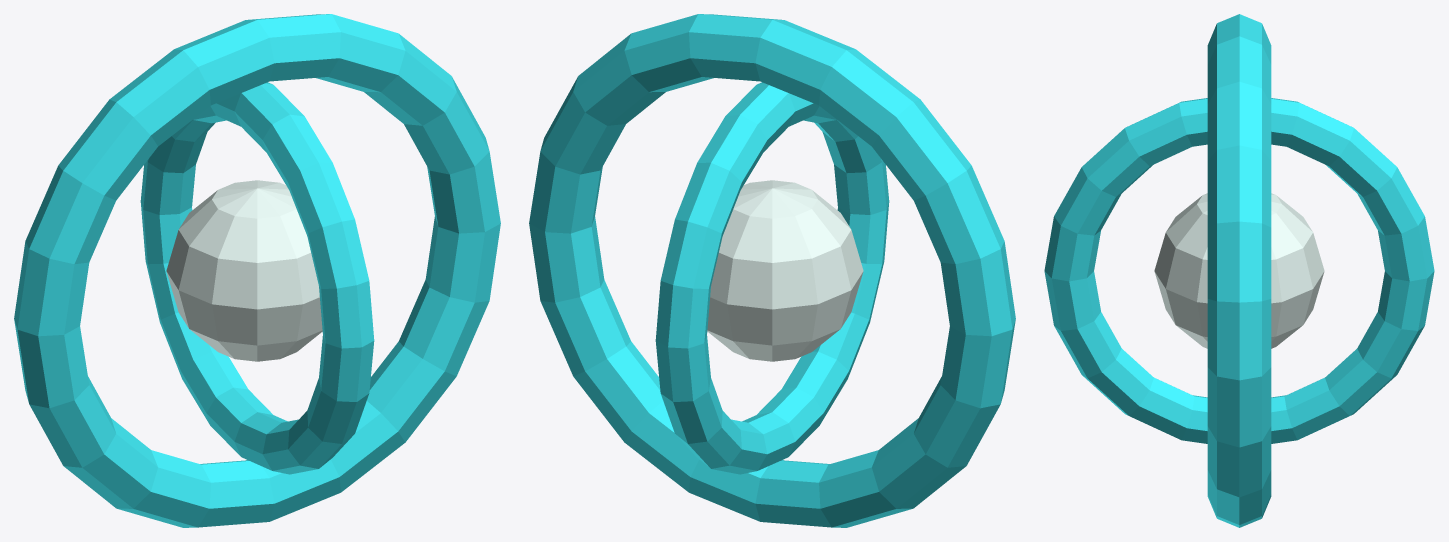
The model's file is WindOrb.fbx.
3 views of the same model, side by side, from view 1: azimuth 30°, elevation 25°; view 2: azimuth 150°, elevation 25°; view 3: azimuth 270°, elevation 25° (orthographic). The views are drawn at different scales.
Visible parts, largest first — view 1: OrbRingA, OrbRingB, OrbCore; view 2: OrbRingA, OrbRingB, OrbCore; view 3: OrbRingB, OrbRingA, OrbCore.
Part boxes in pixels (x1,y1,x2,y2): OrbRingA: (14,14,500,527); OrbRingB: (140,82,374,474); OrbCore: (166,180,322,361); OrbRingA: (529,14,1015,527); OrbRingB: (655,82,889,474); OrbCore: (707,180,863,361); OrbRingB: (1044,98,1434,443); OrbRingA: (1207,14,1271,527); OrbCore: (1154,193,1324,348).
Size of the model in its own units: 73 by 73 by 55.
